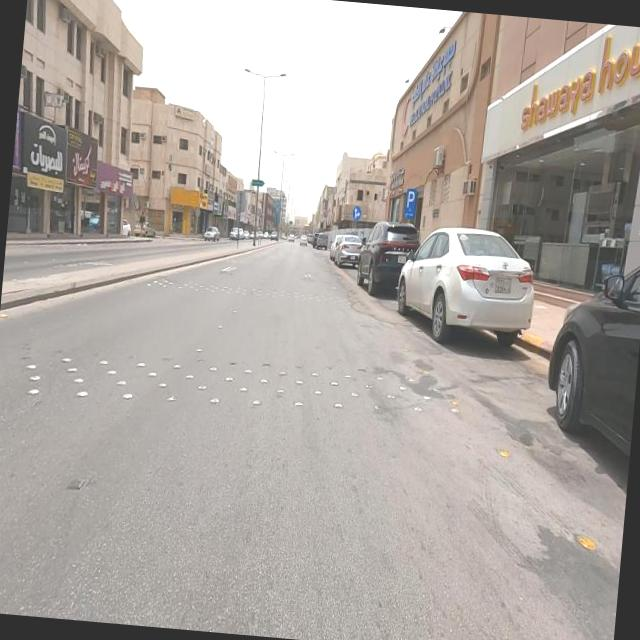debris: (148, 162, 228, 230)
